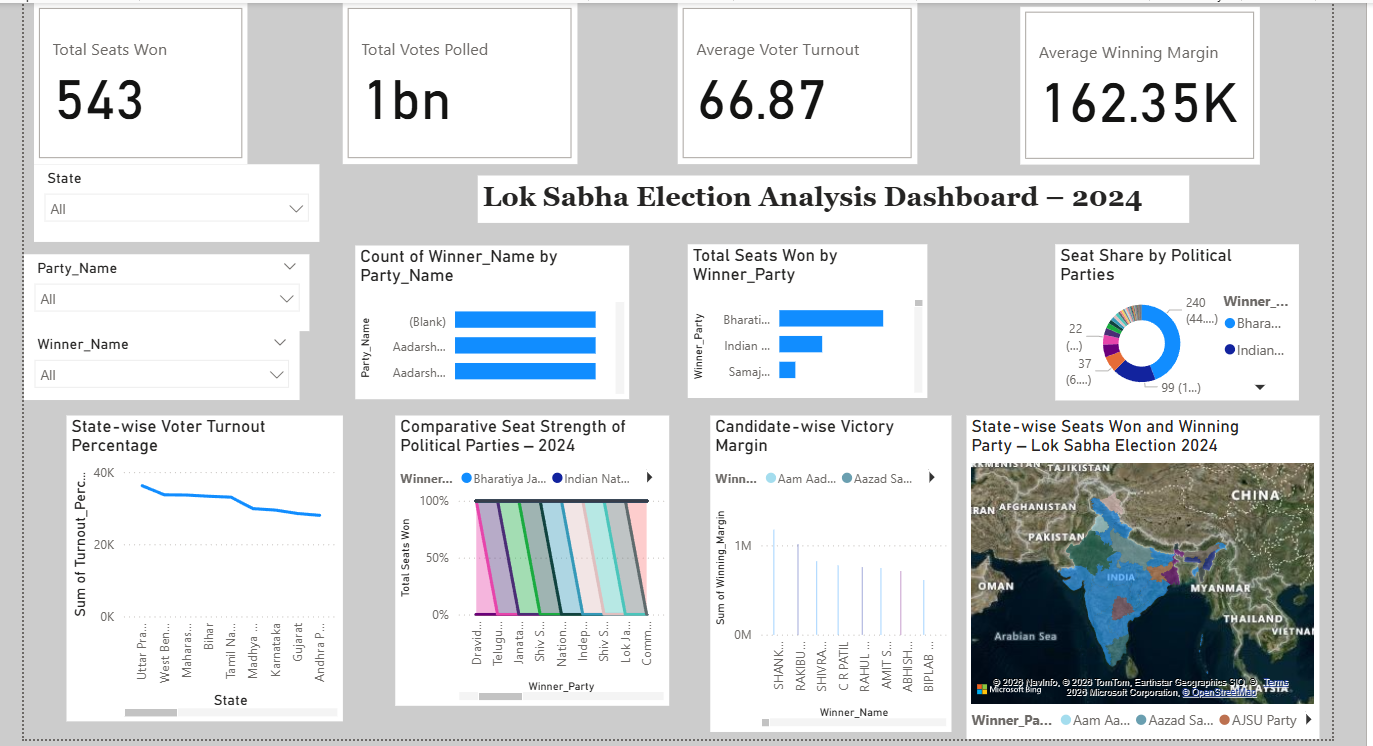

The dashboard page shown, as its layout file describes it:
{"tool":"powerbi","page":{"name":"Page 1","canvas":[1280,720],"ordinal":0},"visuals":[{"type":"cardVisual","fields":{"Data":["Candidate_Table.Total Seats Won"]},"box":[9.8,0,209.1,157.7],"z":0},{"type":"cardVisual","fields":{"Data":["Candidate_Table.Total Votes Polled"]},"box":[311.8,0,229.9,157.7],"z":1000},{"type":"cardVisual","fields":{"Data":["Candidate_Table.Average Voter Turnout"]},"box":[639.5,0,234.8,157.7],"z":2000},{"type":"cardVisual","fields":{"Data":["Candidate_Table.Average Winning Margin"]},"box":[974.6,3.7,234.8,154.1],"z":3000},{"type":"slicer","fields":{"Values":["Constituency_Table.State"]},"box":[9.8,157.7,278.8,75.8],"z":4000},{"type":"slicer","fields":{"Values":["Candidate_Table.Party_Name"]},"box":[0,245.2,279.2,75.3],"z":5000},{"type":"slicer","fields":{"Values":["Election_Results_Table.Winner_Name"]},"box":[0,320.5,269.5,68],"z":6000},{"type":"clusteredBarChart","fields":{"Y":["CountNonNull(Election_Results_Table.Winner_Name)"],"Category":["Candidate_Table.Party_Name"]},"box":[324.1,237.2,267.8,150.4],"z":7000},{"type":"clusteredBarChart","fields":{"Category":["Election_Results_Table.Winner_Party"],"Y":["Candidate_Table.Total Seats Won"]},"box":[649.3,236,234.8,150.4],"z":8000},{"type":"donutChart","title":"Seat Share by Political Parties","fields":{"Category":["Election_Results_Table.Winner_Party"],"Y":["Candidate_Table.Total Seats Won"]},"box":[1008.8,236,238.5,152.9],"z":9000},{"type":"filledMap","title":"State-wise Seats Won and Winning Party – Lok Sabha Election 2024","fields":{"Category":["Constituency_Table.State"],"Series":["Election_Results_Table.Winner_Party"]},"box":[922,403.5,344.8,316.7],"z":9001},{"type":"lineChart","title":"State-wise Voter Turnout Percentage","fields":{"Category":["Constituency_Table.State"],"Y":["Sum(Voter_Information_Table.Turnout_Percentage)"]},"box":[41.6,403.5,270.2,299.6],"z":9002},{"type":"hundredPercentStackedAreaChart","title":"Comparative Seat Strength of Political Parties – 2024","fields":{"Category":["Election_Results_Table.Winner_Party"],"Y":["Candidate_Table.Total Seats Won"],"Series":["Election_Results_Table.Winner_Party"]},"box":[363.2,403.5,267.8,283.7],"z":9003},{"type":"clusteredColumnChart","title":"Candidate-wise Victory Margin","fields":{"Category":["Election_Results_Table.Winner_Name"],"Y":["Sum(Election_Results_Table.Winning_Margin)"],"Series":["Election_Results_Table.Winner_Party"]},"box":[671.3,403.5,236,309.4],"z":9004},{"type":"textbox","box":[443.9,168.8,695.8,46.5],"z":9005}]}

Visuals, with their boxes on the page's 1280x720 design canvas (x1, y1, x2, y2). These are canvas units, not pixel positions in the 1373x746 screenshot, which may show the page scaled, cropped or inside an application window:
cardVisual - Candidate_Table.Total Seats Won: (x1=10, y1=0, x2=219, y2=158)
cardVisual - Candidate_Table.Total Votes Polled: (x1=312, y1=0, x2=542, y2=158)
cardVisual - Candidate_Table.Average Voter Turnout: (x1=640, y1=0, x2=874, y2=158)
cardVisual - Candidate_Table.Average Winning Margin: (x1=975, y1=4, x2=1209, y2=158)
slicer - Constituency_Table.State: (x1=10, y1=158, x2=289, y2=234)
slicer - Candidate_Table.Party_Name: (x1=0, y1=245, x2=279, y2=320)
slicer - Election_Results_Table.Winner_Name: (x1=0, y1=320, x2=270, y2=388)
clusteredBarChart - CountNonNull(Election_Results_Table.Winner_Name) x Candidate_Table.Party_Name: (x1=324, y1=237, x2=592, y2=388)
clusteredBarChart - Election_Results_Table.Winner_Party x Candidate_Table.Total Seats Won: (x1=649, y1=236, x2=884, y2=386)
"Seat Share by Political Parties" donutChart: (x1=1009, y1=236, x2=1247, y2=389)
"State-wise Seats Won and Winning Party – Lok Sabha Election 2024" filledMap: (x1=922, y1=404, x2=1267, y2=720)
"State-wise Voter Turnout Percentage" lineChart: (x1=42, y1=404, x2=312, y2=703)
"Comparative Seat Strength of Political Parties – 2024" hundredPercentStackedAreaChart: (x1=363, y1=404, x2=631, y2=687)
"Candidate-wise Victory Margin" clusteredColumnChart: (x1=671, y1=404, x2=907, y2=713)
textbox: (x1=444, y1=169, x2=1140, y2=215)
